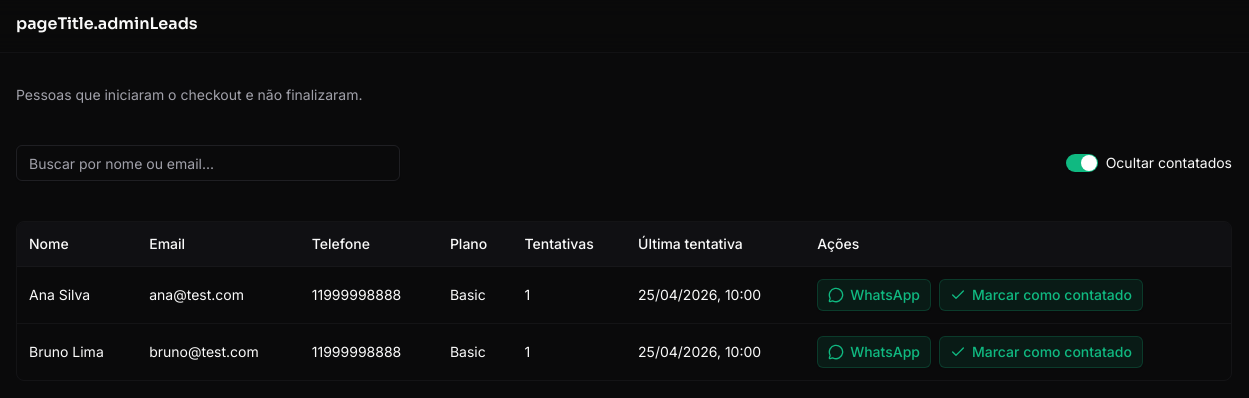
it: AdminLeadsPage › clicking a row disables only that row button, leaving others enabled
Step 1. Click the button "Marcar como contatado" in the row of "Ana Silva" → (1041, 295), box [939,279,1143,311]
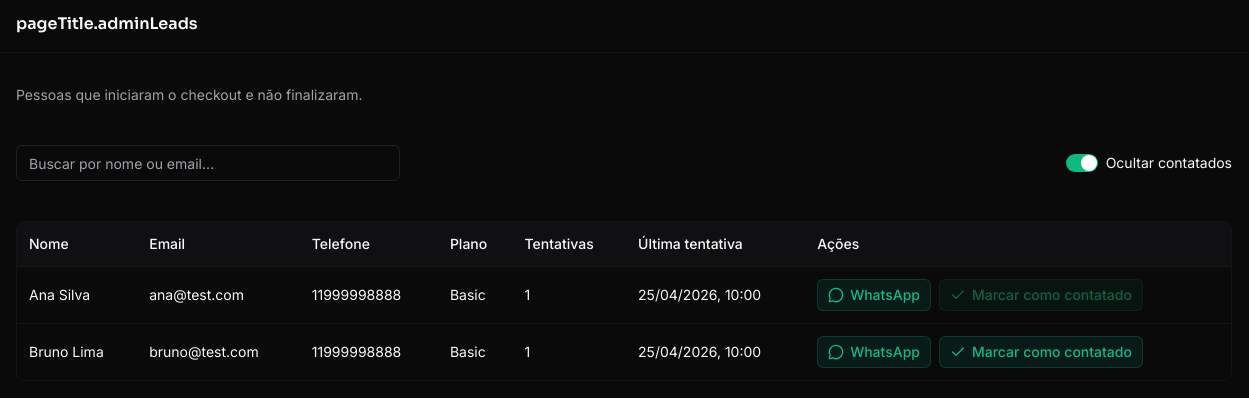
Expected: the button "Marcar como contatado" in the row of "Bruno Lima" is enabled, [939,336,1143,368]
Expected: the button "Marcar como contatado" in the row of "Ana Silva" is disabled, [939,279,1143,311]
